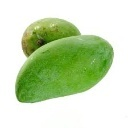mango: (14, 35, 114, 103)
